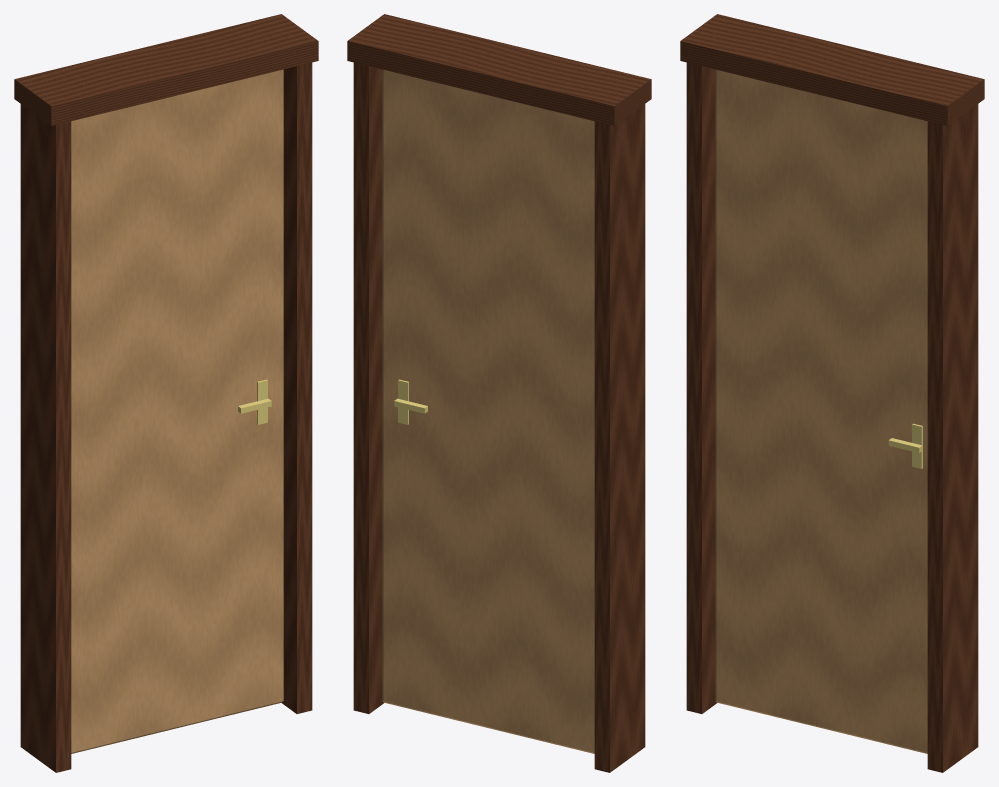
File: door_interior_wood.glb
The picture shows the model from 3 angles, left to right: view 1: azimuth 30°, elevation 25°; view 2: azimuth 150°, elevation 25°; view 3: azimuth 330°, elevation 25°; orthographic projection.
Parts seen in each view (by area): view 1: door_interior_wood_woodOak, door_interior_wood_woodWalnut, door_interior_wood_metalBrass; view 2: door_interior_wood_woodOak, door_interior_wood_woodWalnut, door_interior_wood_metalBrass; view 3: door_interior_wood_woodOak, door_interior_wood_woodWalnut, door_interior_wood_metalBrass.
Part boxes in pixels (box(x1,y1,x2,y2)): door_interior_wood_woodOak: box(71, 69, 283, 753); door_interior_wood_woodWalnut: box(14, 14, 318, 772); door_interior_wood_metalBrass: box(238, 379, 271, 424); door_interior_wood_woodOak: box(382, 69, 594, 753); door_interior_wood_woodWalnut: box(347, 14, 651, 772); door_interior_wood_metalBrass: box(394, 379, 427, 424); door_interior_wood_woodOak: box(715, 69, 927, 753); door_interior_wood_woodWalnut: box(680, 14, 984, 772); door_interior_wood_metalBrass: box(888, 423, 922, 468).
Size of what is drawn, in the model's own units: 0.92 by 2.2 by 0.22.
3 materials, 2 textured.
